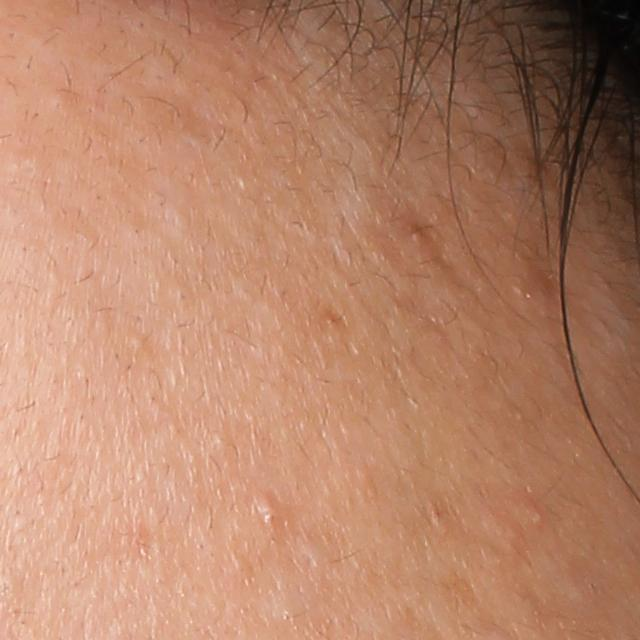comedo: (125, 332, 148, 358)
